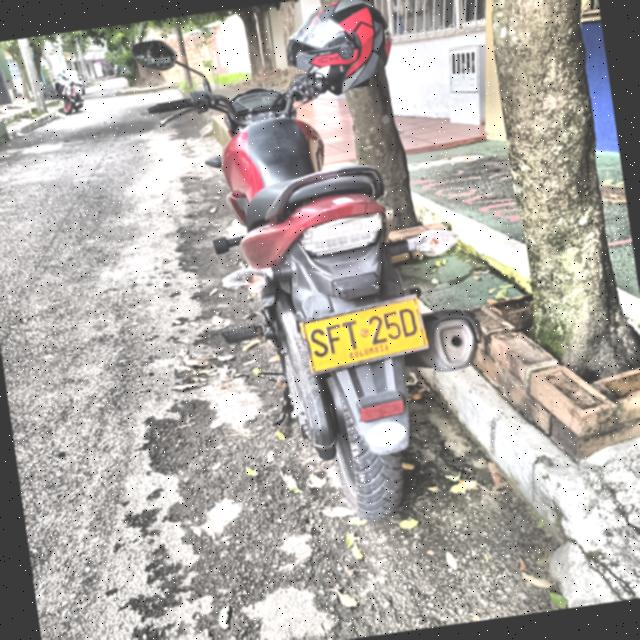2: (365, 312, 389, 346)
5: (382, 308, 403, 342)
D: (397, 305, 419, 340)
F: (325, 322, 346, 357)
S: (307, 327, 331, 362)
T: (340, 319, 359, 352)
